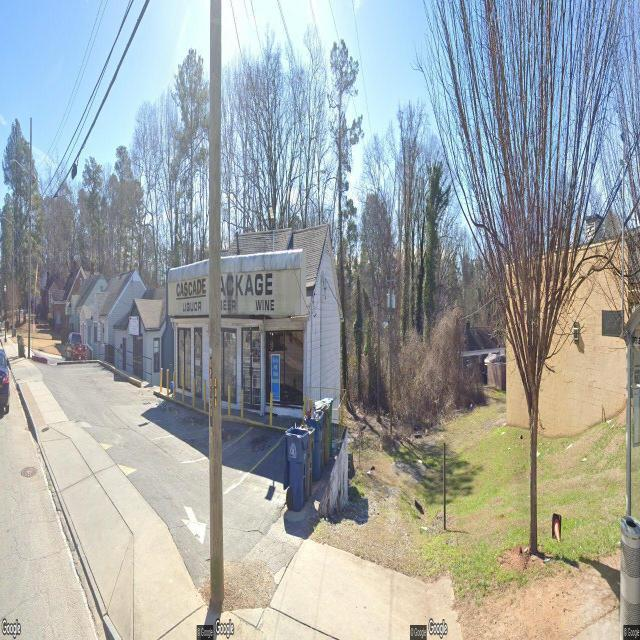shelter: (619, 299, 640, 636)
trash_can: (619, 515, 640, 640)
